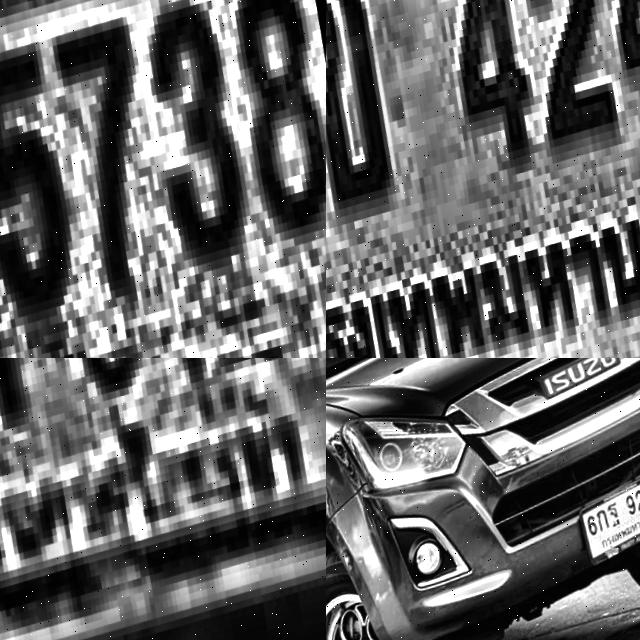license-plate: (0, 0, 326, 358), (326, 0, 640, 358), (0, 358, 326, 640), (574, 474, 640, 582)
